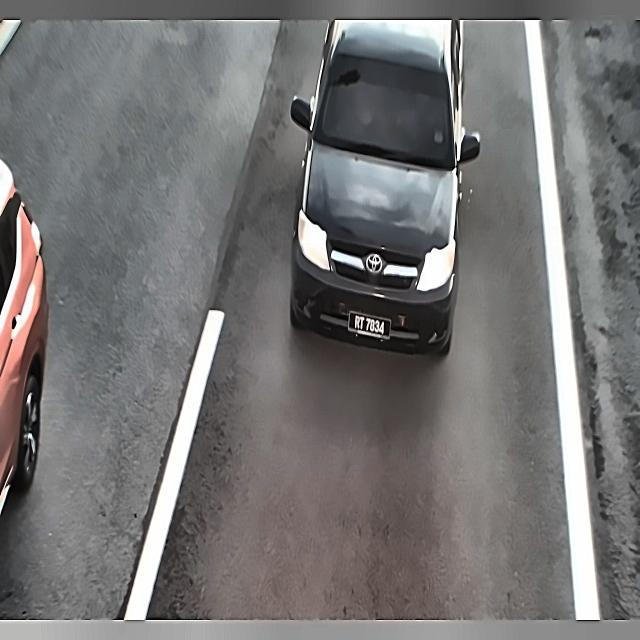car: (344, 303, 392, 344)
